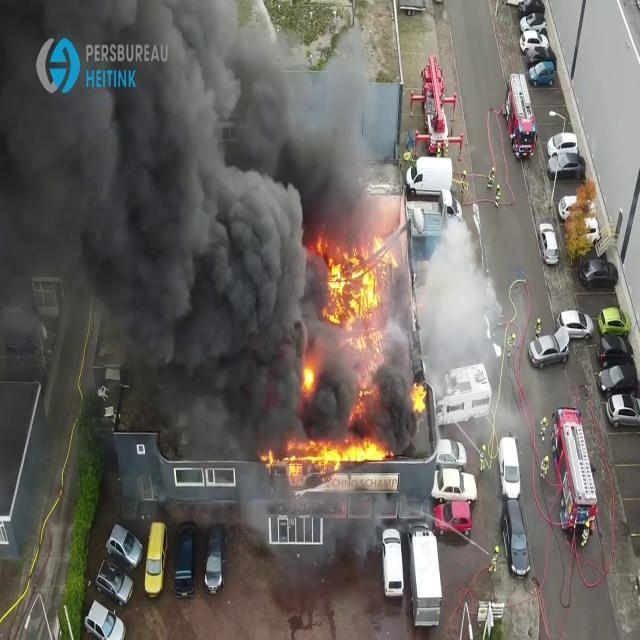Fire: (317, 226, 397, 335), (266, 431, 392, 477), (410, 378, 428, 416)
Smoke: (0, 0, 376, 411), (378, 216, 500, 405)
